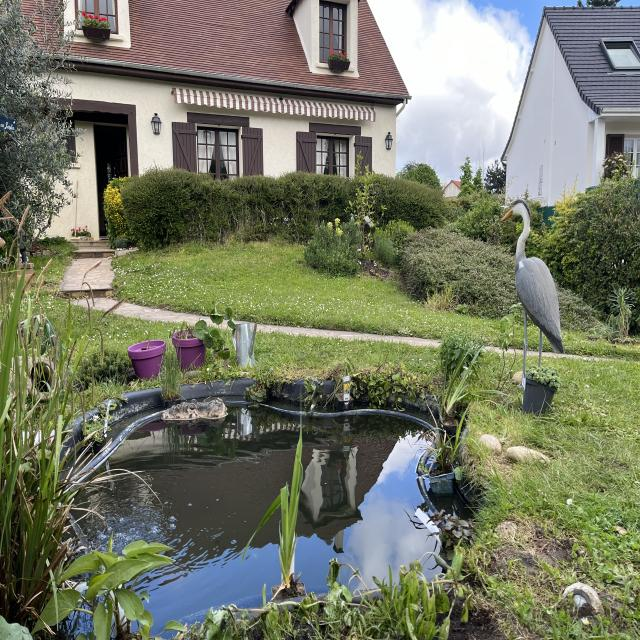Heron: (488, 185, 575, 412)
